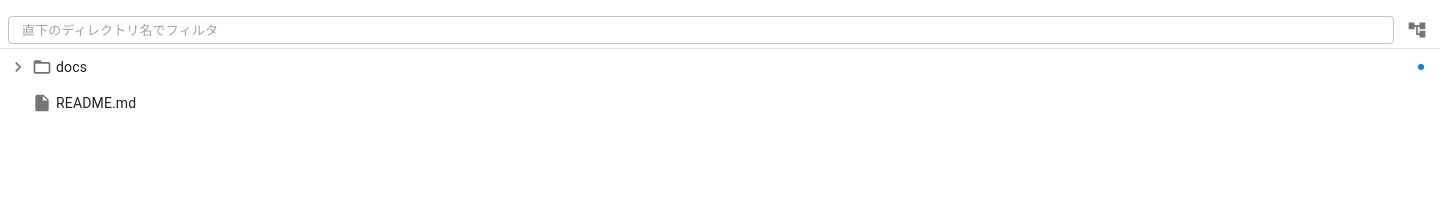
Test: Sidebar changed-paths dots (#178) › shows a dot on an ancestor directory only when a descendant is changed
expect the element with test id "sidebar-changed-dot-docs" is shown: met, box [1418, 64, 1424, 70]
# Expanding the directory surfaces the file-level dot too.
Step 1. Click the button with test id "sidebar-dir-docs" → click(72, 67), box [8, 57, 1424, 77]
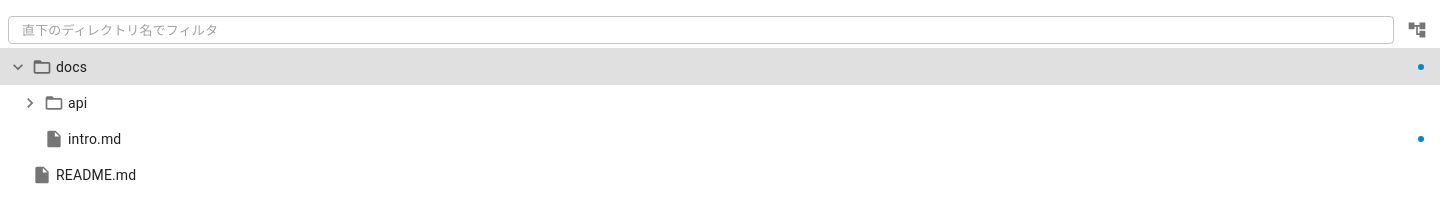
expect the element with test id "sidebar-changed-dot-docs/intro.md" is shown: met, box [1418, 136, 1424, 142]
